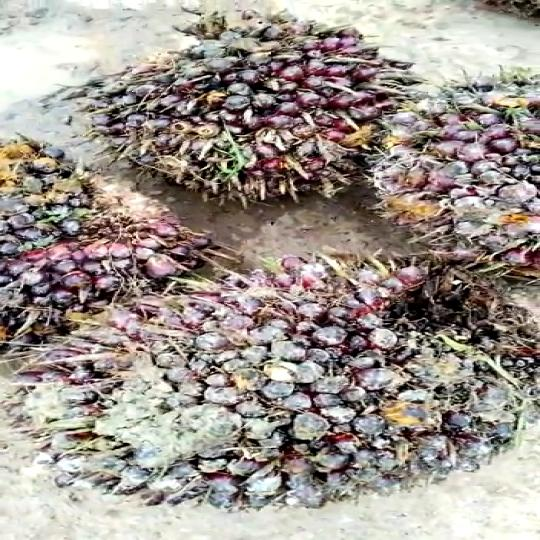kurang masak: (14, 260, 540, 505), (38, 16, 422, 198), (0, 132, 209, 344), (344, 64, 540, 267)
